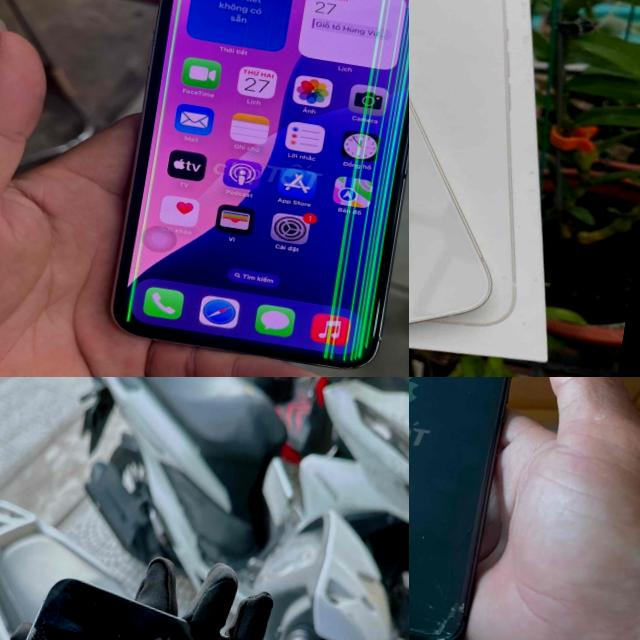gen_12_13: (409, 0, 546, 377), (0, 556, 371, 640)
gen_7_8: (409, 377, 518, 640)
gen_x_xs: (102, 0, 409, 377)
